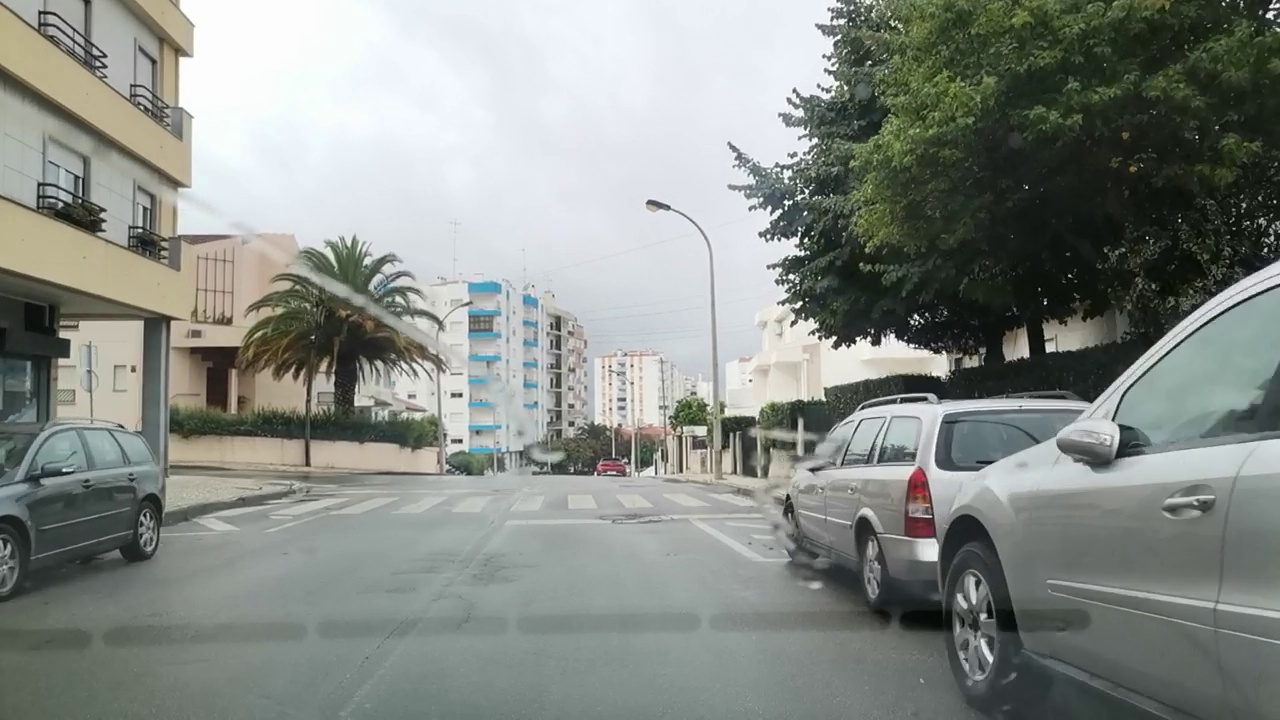Stairs: (268, 488, 759, 519)
